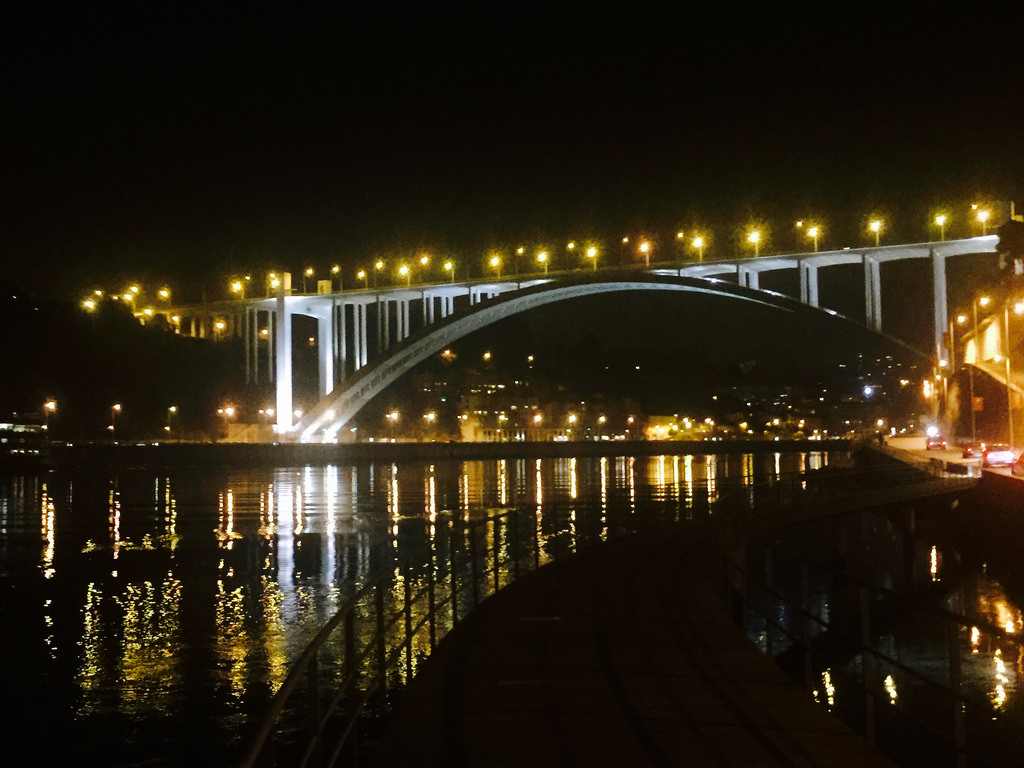arrabida: (127, 217, 1023, 445)
